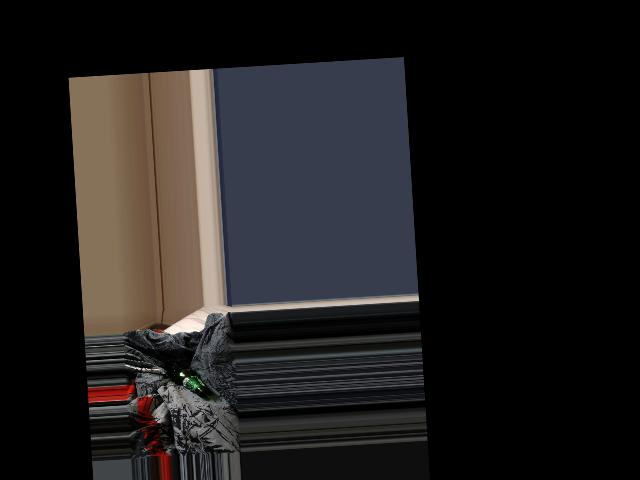beer: (164, 359, 210, 400)
